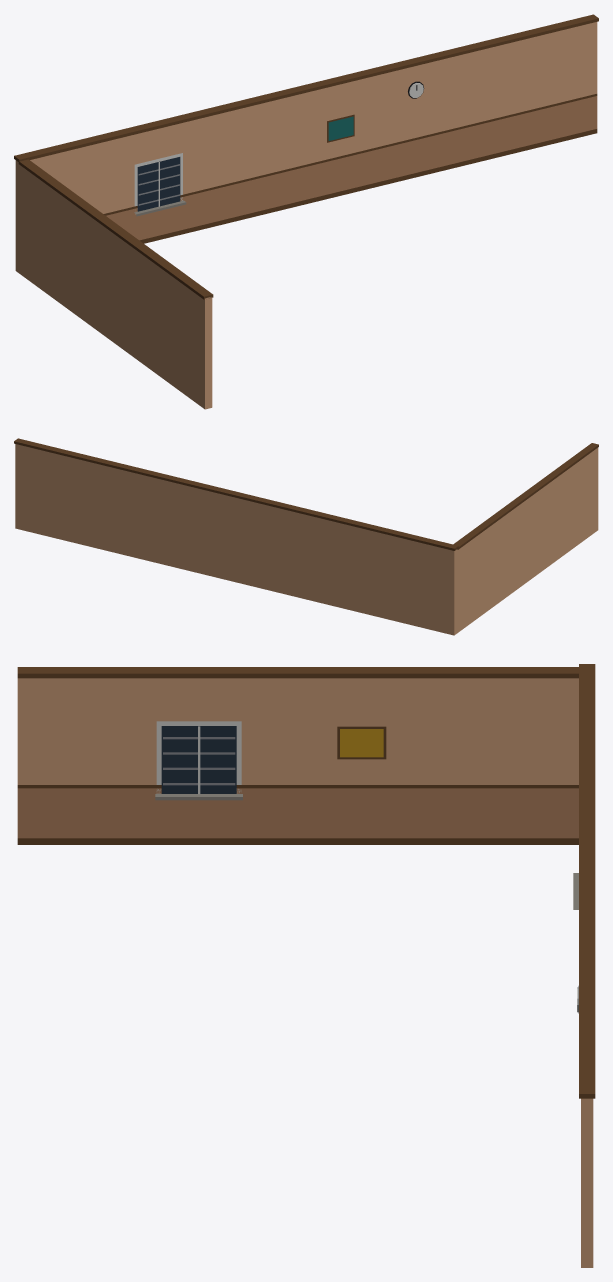
File: building_room_parlour.d51ff5fe5547.glb
3 views of the same model, one above another, from view 1: azimuth 30°, elevation 25°; view 2: azimuth 150°, elevation 25°; view 3: azimuth 270°, elevation 25° (orthographic). The views are drawn at different scales.
Parts seen in each view (by area): view 1: body; view 2: body; view 3: body.
Boxes of the visible parts, bbox=[...] form: body: bbox=[14, 14, 598, 409]; body: bbox=[14, 438, 598, 635]; body: bbox=[17, 664, 595, 1267].
Bounding box in the file's own units: 16.26 × 3.08 × 9.23.
